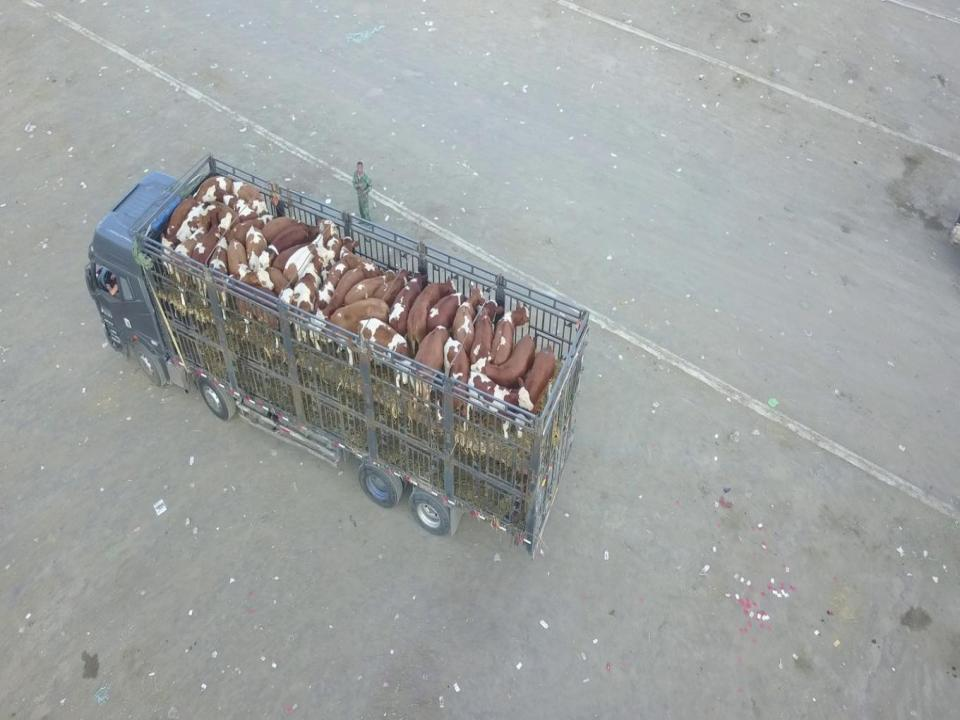truck: (86, 149, 593, 562)
